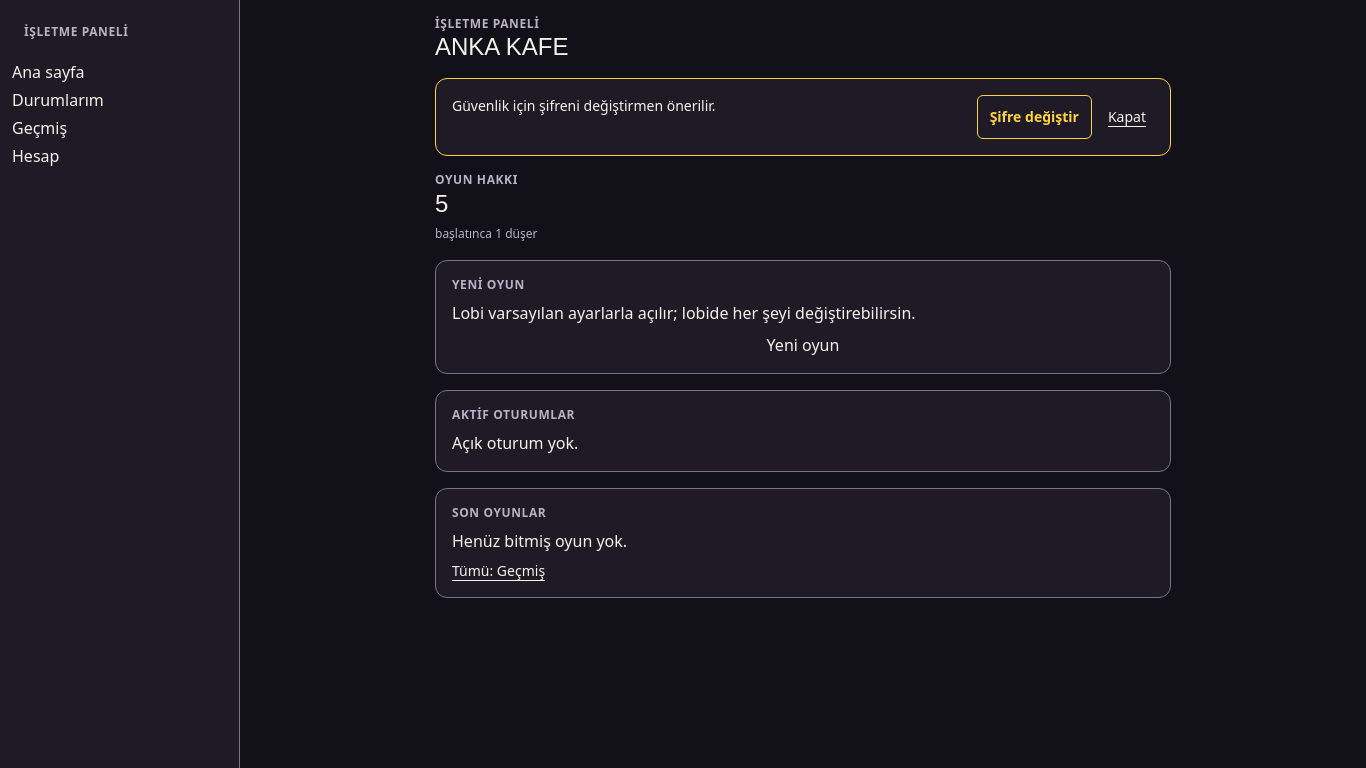
Test: BusinessHomePage › hak bittiğinde anlaşılır mesaj verir
Click the button "Yeni oyun" at (803, 345), box [452, 333, 1154, 357]
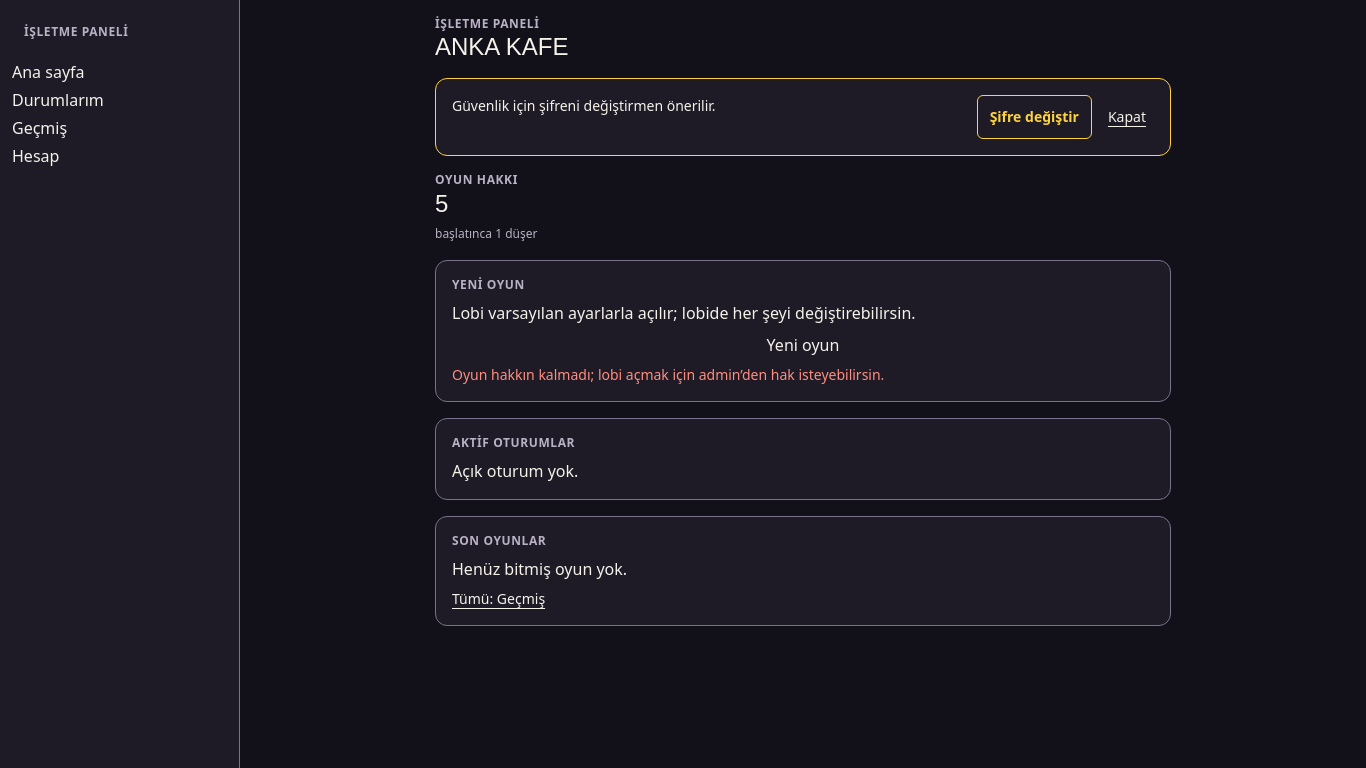
Check: the message reads "Oyun hakkın kalmadı; lobi açmak için admin’den hak isteyebilirsin.", box [452, 365, 884, 384]
